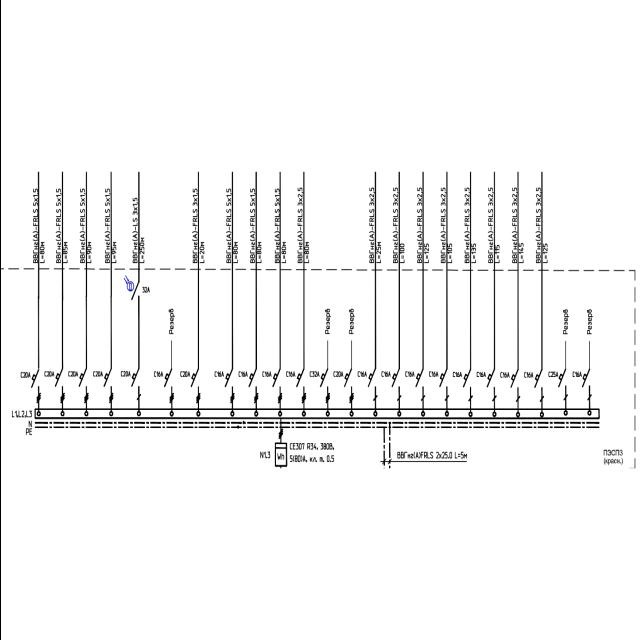-: (287, 442, 336, 468), (42, 370, 54, 378), (213, 370, 224, 378), (237, 370, 248, 378), (332, 370, 343, 378), (284, 370, 295, 378), (91, 370, 102, 378), (178, 370, 190, 377), (66, 371, 78, 378), (260, 370, 272, 377), (570, 371, 582, 378), (140, 286, 150, 294), (308, 371, 319, 378), (451, 371, 462, 378), (119, 370, 130, 377), (19, 371, 30, 378), (151, 370, 162, 377), (428, 370, 439, 377), (404, 370, 415, 377), (522, 372, 534, 378), (474, 372, 486, 378), (380, 371, 390, 378), (356, 371, 366, 378), (498, 372, 509, 378), (548, 372, 558, 378)
KM: (129, 282, 141, 302)
QF: (412, 367, 426, 401), (188, 367, 201, 403), (222, 368, 235, 404), (389, 368, 402, 403), (342, 368, 354, 404), (318, 368, 330, 404), (294, 368, 306, 404), (270, 368, 282, 404), (162, 368, 174, 404), (246, 368, 258, 404), (29, 368, 41, 404), (53, 368, 65, 404), (76, 368, 88, 404), (461, 368, 473, 403), (532, 370, 544, 404), (556, 368, 568, 402), (128, 368, 140, 402), (484, 368, 496, 402), (101, 368, 112, 404), (509, 369, 520, 404), (367, 367, 378, 402), (436, 369, 448, 401), (580, 370, 592, 400)
WH: (273, 442, 287, 468)
